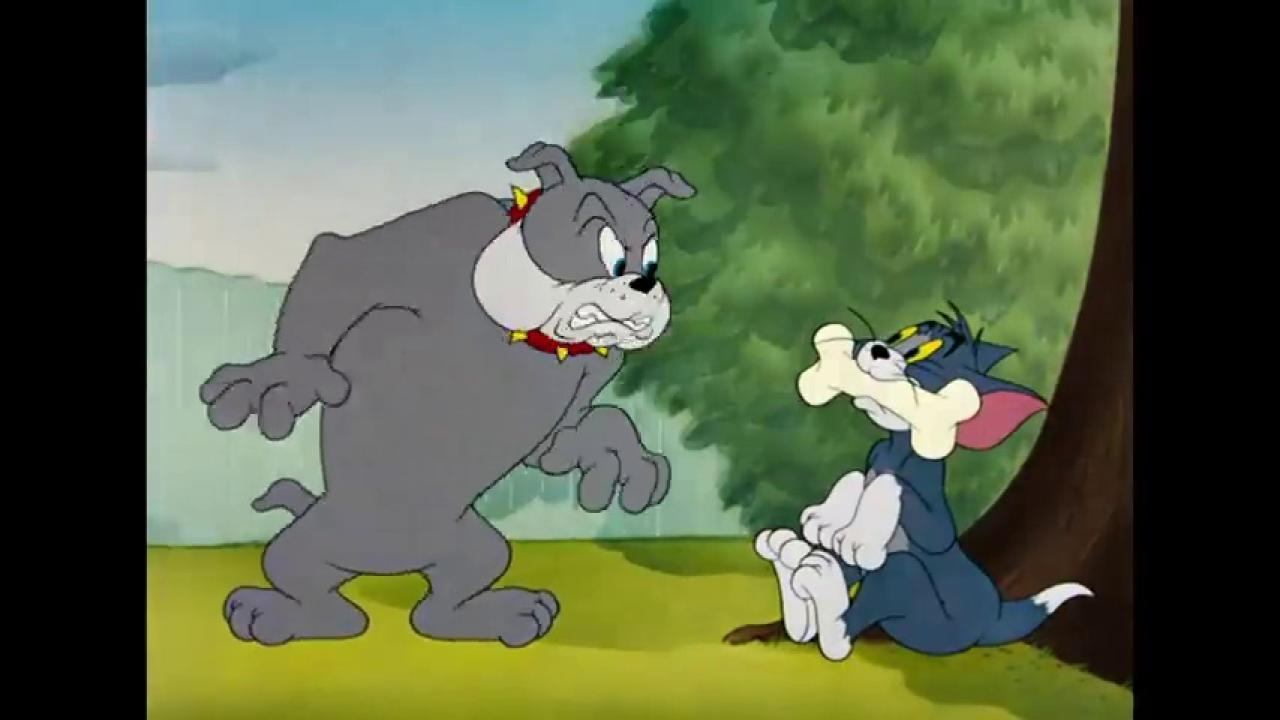Tom: (751, 298, 1099, 663)
